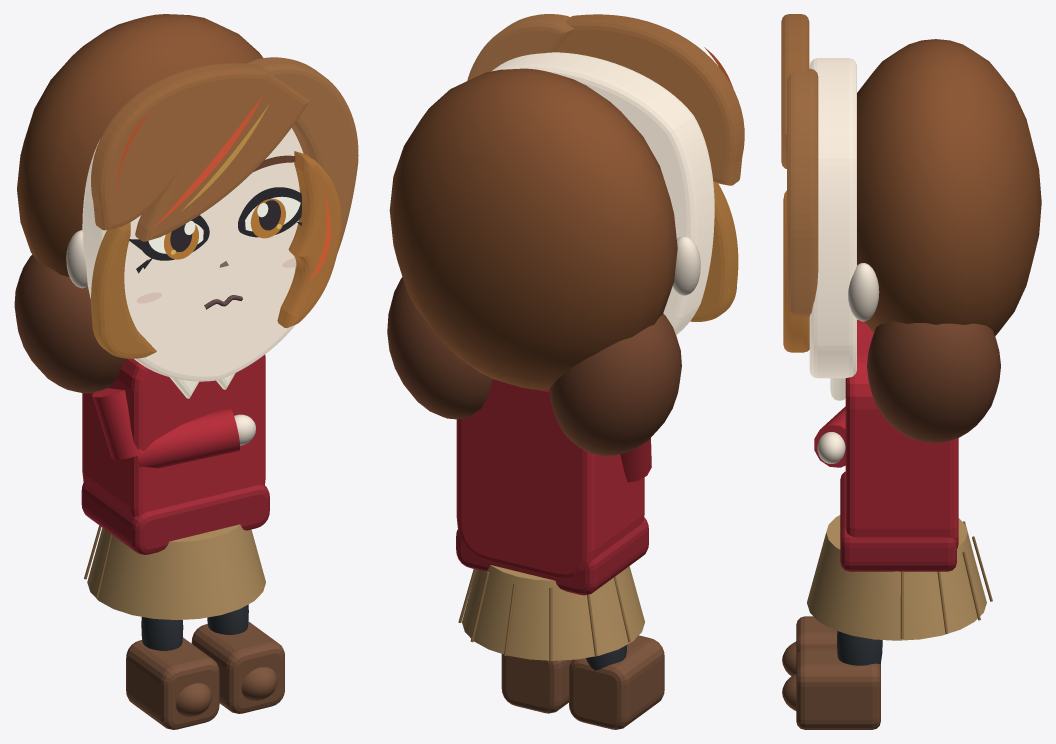
Rendered from laraib-tomodachi.glb.
3 views of the same model, side by side, from view 1: azimuth 30°, elevation 25°; view 2: azimuth 150°, elevation 25°; view 3: azimuth 270°, elevation 25° (orthographic). The views are drawn at different scales.
Visible parts, largest first — view 1: avatar-head, laraib-chibi, tomodachi-shaped-face, tomodachi-side-fringe, tomodachi-red-sweater, avatar-tan-skirt, tomodachi-graphic-eye (×2); view 2: avatar-head, tomodachi-red-sweater, laraib-chibi, tomodachi-shaped-face, avatar-tan-skirt, tomodachi-side-fringe; view 3: avatar-head, laraib-chibi, tomodachi-red-sweater, tomodachi-shaped-face, avatar-tan-skirt, tomodachi-side-fringe.
Boxes of the visible parts, <box> form: avatar-head: <box>14,14,358,393</box>; laraib-chibi: <box>81,373,284,729</box>; tomodachi-shaped-face: <box>82,128,303,381</box>; tomodachi-side-fringe: <box>91,63,309,241</box>; tomodachi-red-sweater: <box>82,354,265,516</box>; avatar-tan-skirt: <box>87,524,265,620</box>; tomodachi-graphic-eye (×2): <box>129,187,301,260</box>; avatar-head: <box>387,14,738,455</box>; tomodachi-red-sweater: <box>456,379,644,578</box>; laraib-chibi: <box>456,438,664,729</box>; tomodachi-shaped-face: <box>491,52,714,335</box>; avatar-tan-skirt: <box>462,565,644,660</box>; tomodachi-side-fringe: <box>555,14,744,185</box>; avatar-head: <box>783,39,1041,443</box>; laraib-chibi: <box>782,378,992,729</box>; tomodachi-red-sweater: <box>845,319,958,548</box>; tomodachi-shaped-face: <box>809,58,856,378</box>; avatar-tan-skirt: <box>807,515,986,640</box>; tomodachi-side-fringe: <box>781,14,809,168</box>.
Bounding box in the file's own units: 0.8861 × 2.07 × 0.76.
